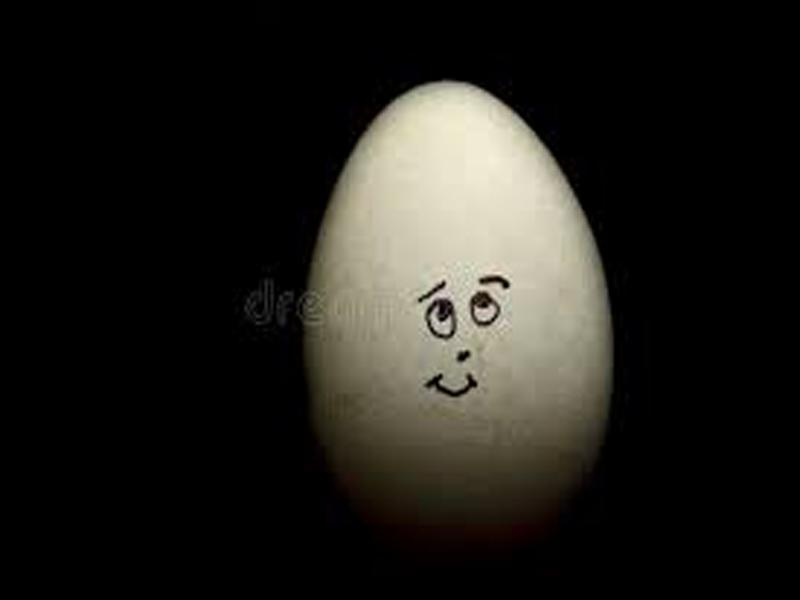Eggs: (305, 79, 611, 538)
